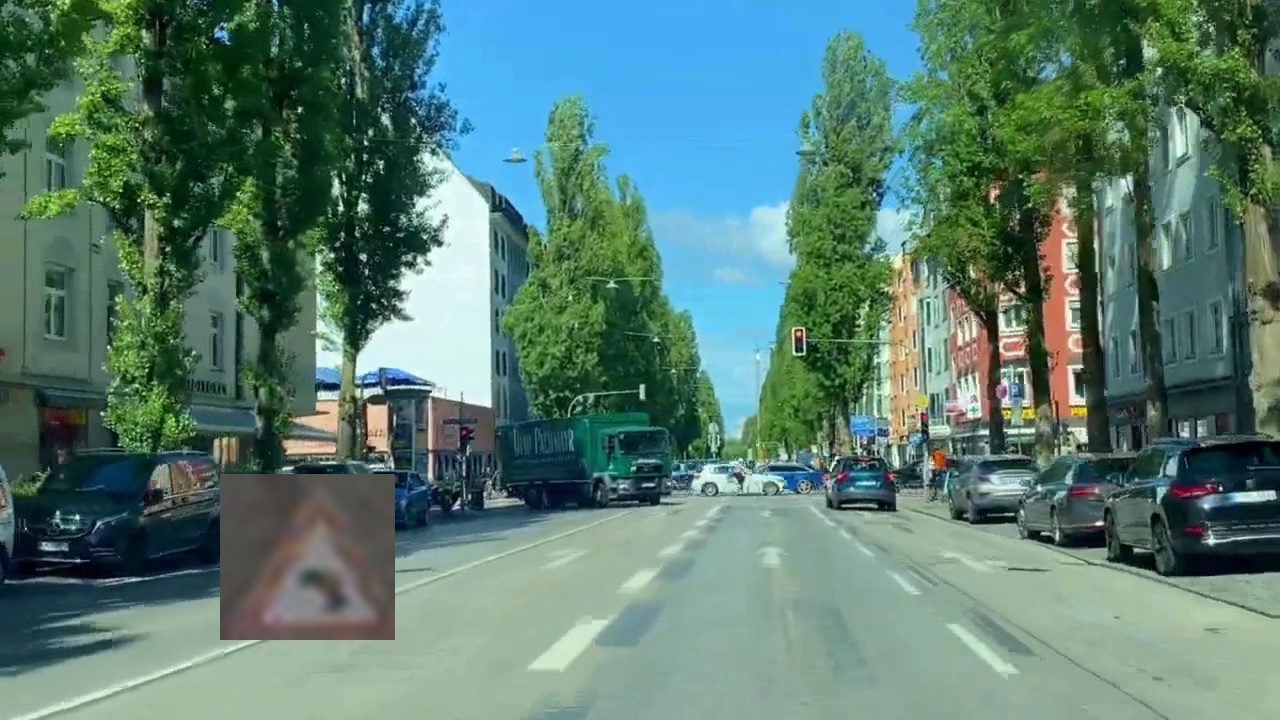Curve left: (220, 474, 395, 640)
